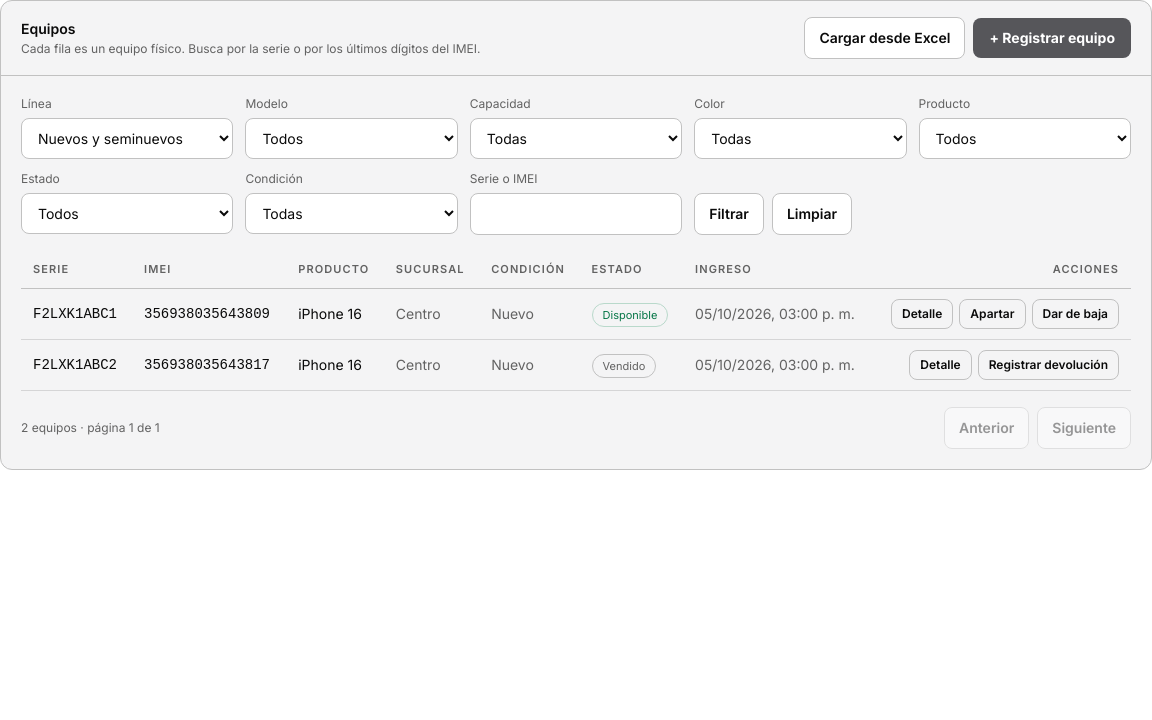
Test: a refusal on a device is shown as the server said it
Click the button "Dar de baja" at [1075, 314], box [1032,298,1119,328]
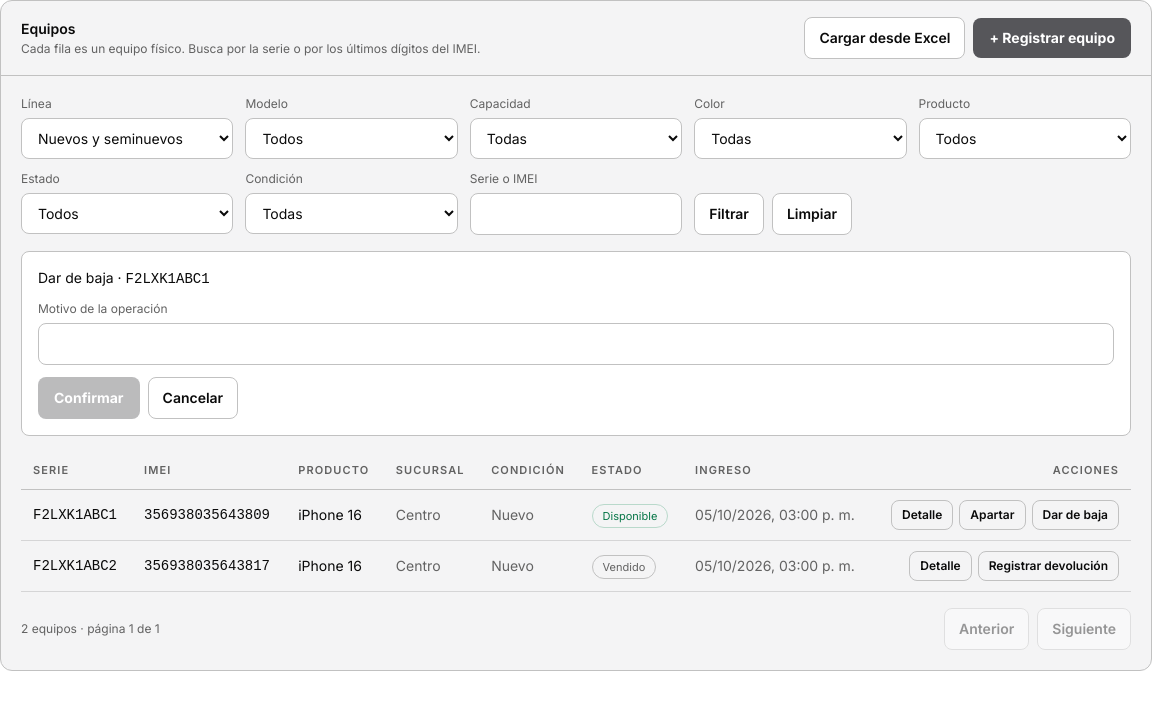
Type "Roto" into the field labelled "Motivo de la operación" at [576, 344], box [38,323,1114,365]
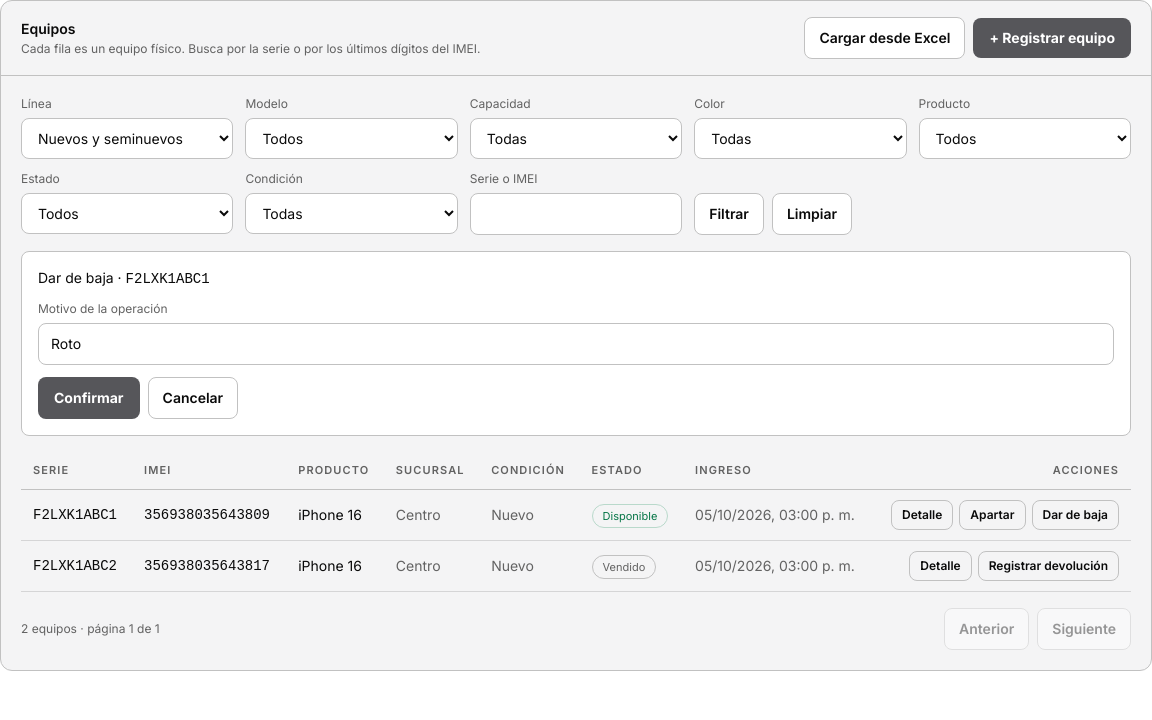
Click the button "Confirmar" at [89, 398], box [38,377,140,419]
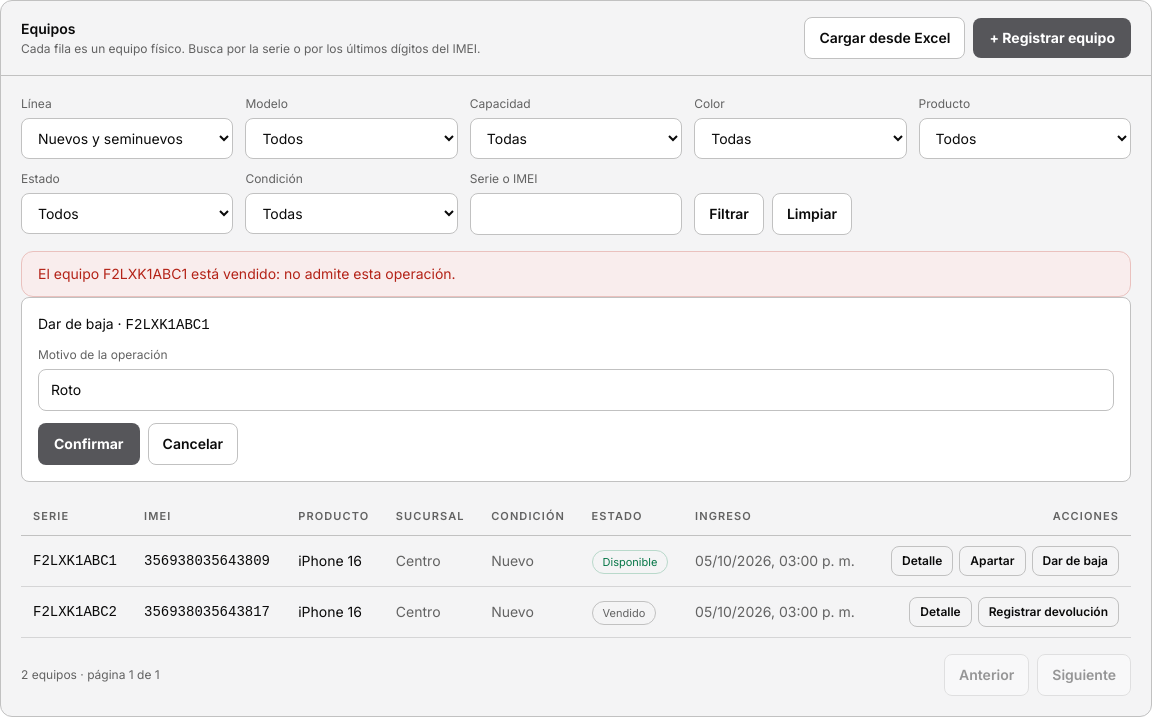
Expected: the text "El equipo F2LXK1ABC1 está vendido: no admite esta operación." is shown, [38,265,456,282]
